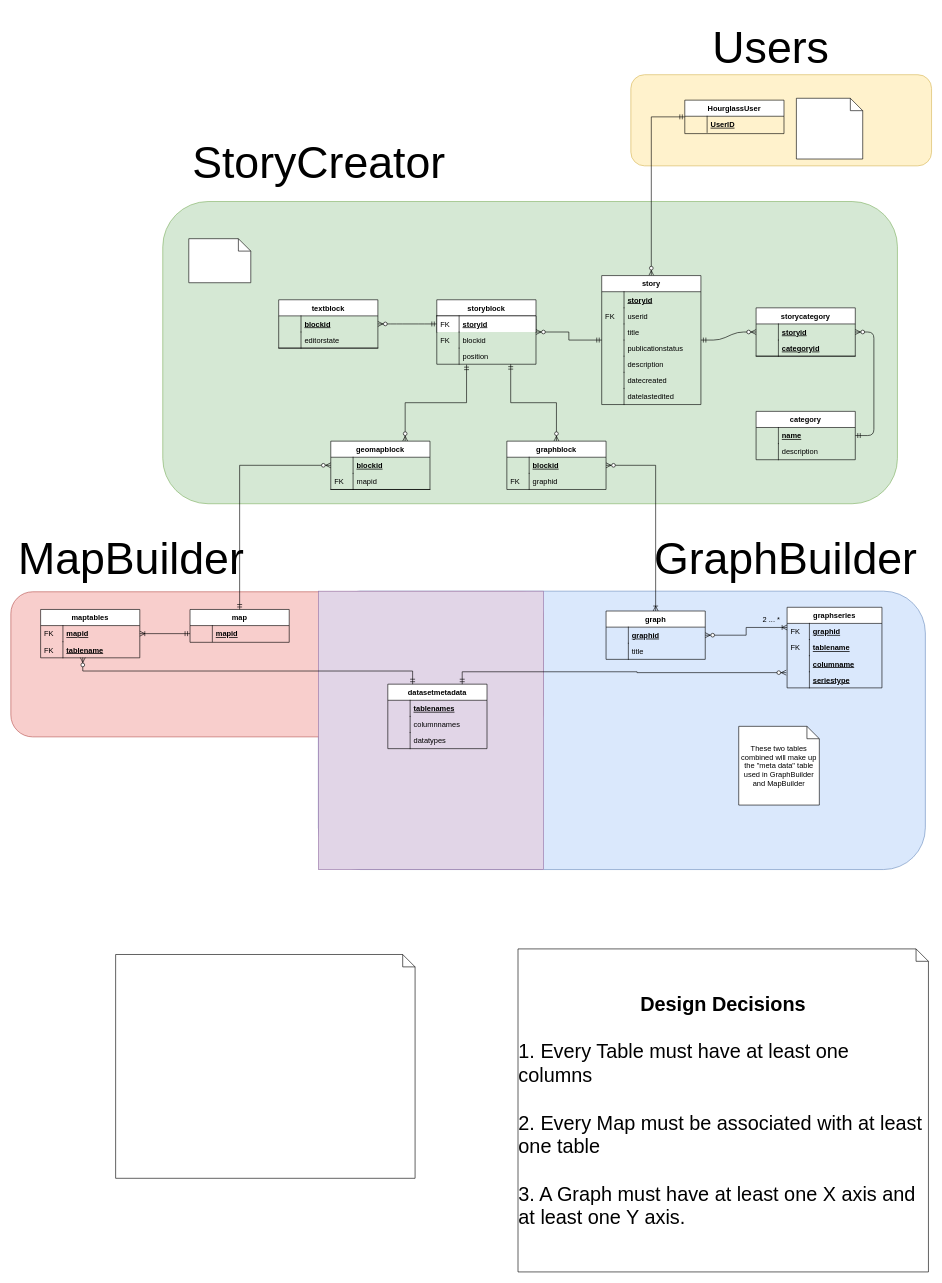
This 942x1283 diagram has some shape labels left out. The centre of each missing label's shape, as x and y in pixels:
Legend Primary Key = has BoldUnderline Foreign Keys = have FK on first column: point 265,1066
State is being treated as an atomic value.: point 219,260
The keyword "User" is taken. Had to improvise.: point 829,128
